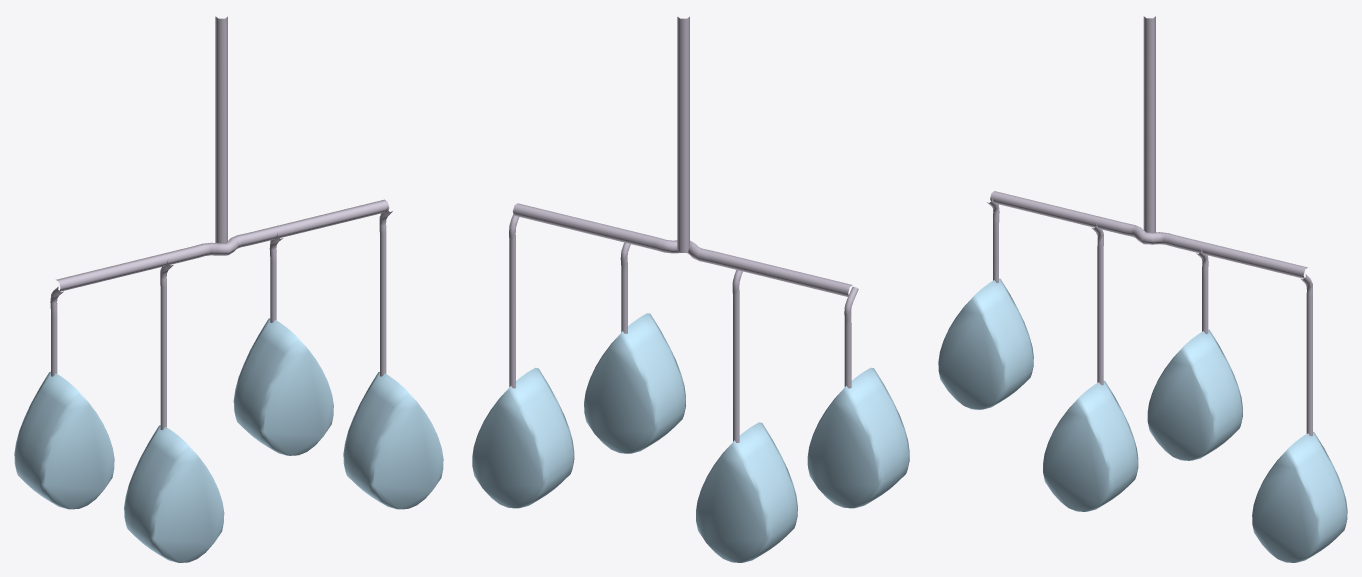
Rendered from decor_4_classic.glb.
The picture shows the model from 3 angles, left to right: view 1: azimuth 30°, elevation 25°; view 2: azimuth 150°, elevation 25°; view 3: azimuth 330°, elevation 25°; orthographic projection. The views are drawn at different scales.
Visible parts, largest first — view 1: decor_4_classic; view 2: decor_4_classic; view 3: decor_4_classic.
Part boxes in pixels (x1,y1,x2,y2): decor_4_classic: (14,16,443,562); decor_4_classic: (472,16,909,562); decor_4_classic: (938,16,1347,562).
Bounding box in the file's own units: 7.38 × 9.05 × 0.9537.
